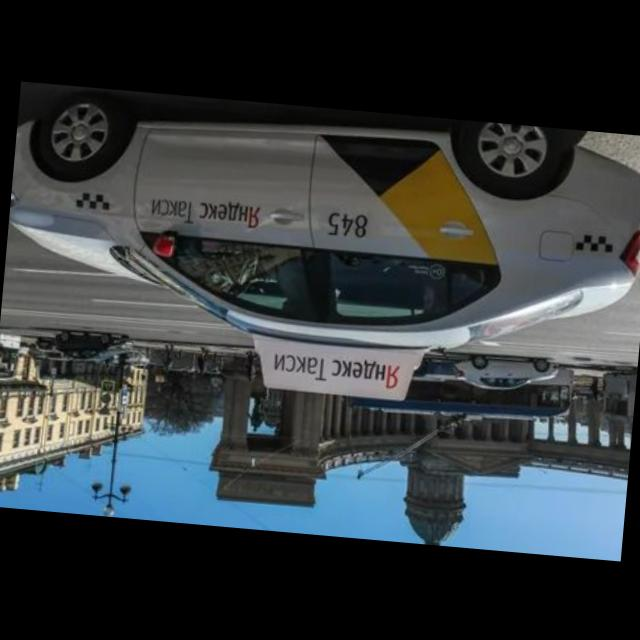taxi: (1, 80, 640, 422)
